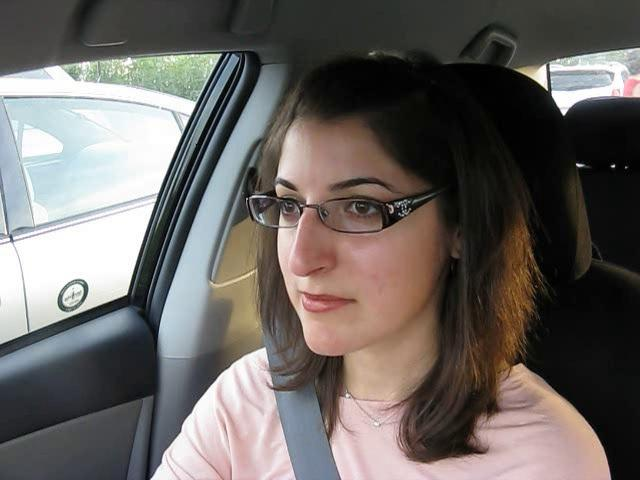no_yawn: (279, 275, 367, 326)
open_eyeL: (258, 191, 312, 228)
open_eyeR: (324, 187, 401, 233)
